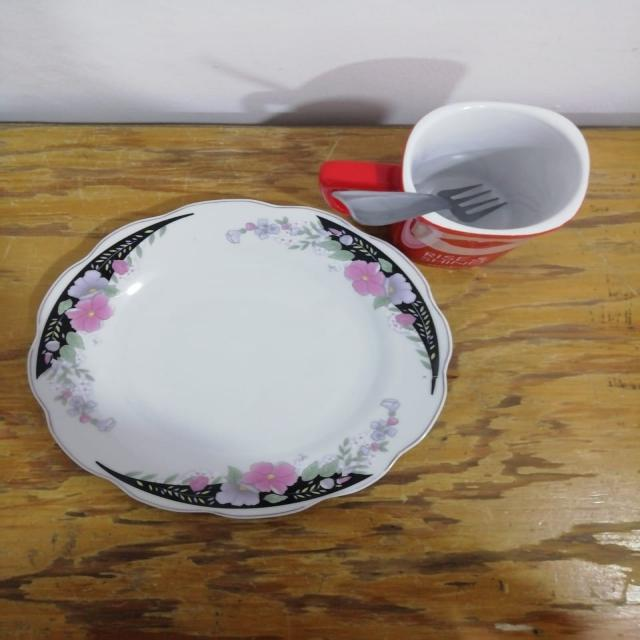non-organic waste: (39, 202, 460, 572)
